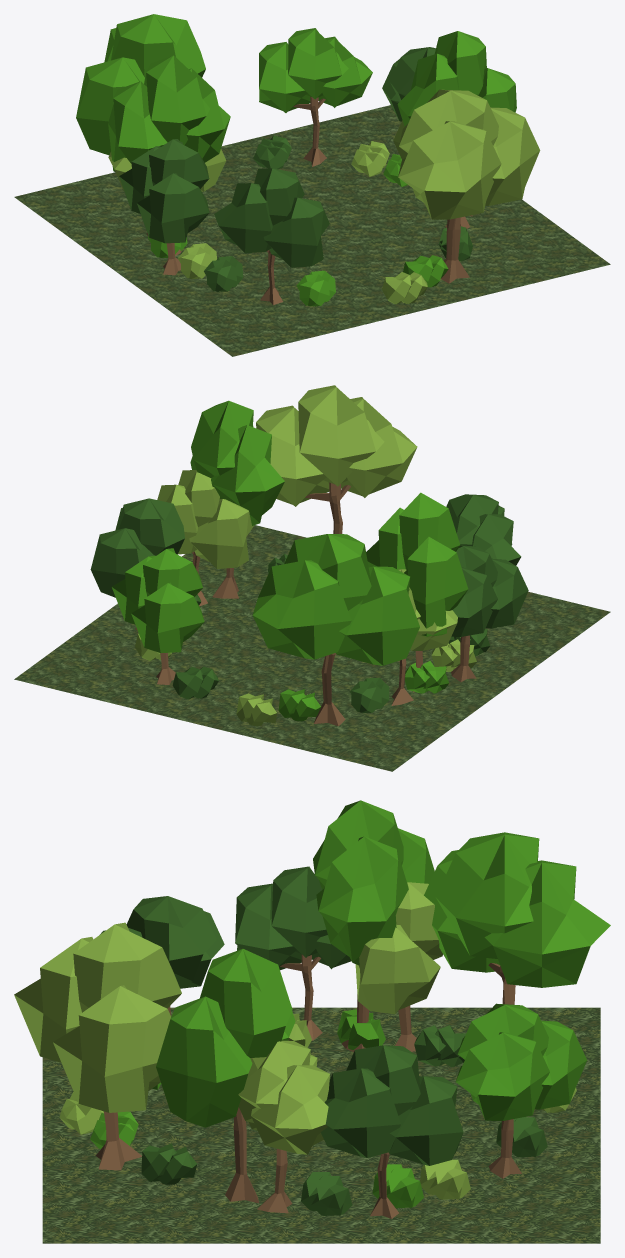
File: Stick-Forest.glb
3 renders of one model, top to bottom at view 1: azimuth 30°, elevation 25°; view 2: azimuth 150°, elevation 25°; view 3: azimuth 270°, elevation 25°, orthographic. The views are drawn at different scales.
Visible parts, largest first — view 1: Plane, Tree-Leaves.005, Tree-Leaves.003, Tree-Leaves.006, Tree-Leaves, Tree-Leaves.001, Tree-Leaves.007, Tree-Leaves.008, Tree-Leaves.002, Bushes.013, Bushes.009, Bushes.010 (+9 smaller); view 2: Plane, Tree-Leaves, Tree-Leaves.005, Tree-Leaves.003, Tree-Leaves.008, Tree-Leaves.001, Tree-Leaves.004, Tree-Leaves.002, Tree-Leaves.007, Tree-Leaves.006, Bushes.002, Tree-Leaves.009 (+8 smaller); view 3: Plane, Tree-Leaves.005, Tree-Leaves, Tree-Leaves.008, Tree-Leaves.002, Tree-Leaves.003, Tree-Leaves.001, Tree-Leaves.004, Tree-Leaves.007, Tree-Leaves.009, Tree-Leaves.006, Bushes.007 (+14 smaller).
Boxes of the visible parts, x1,y1,x2,y2 form: Plane: [14, 105, 610, 356]; Tree-Leaves.005: [398, 89, 540, 219]; Tree-Leaves.003: [108, 55, 230, 171]; Tree-Leaves.006: [214, 168, 329, 267]; Tree-Leaves: [76, 14, 205, 155]; Tree-Leaves.001: [259, 28, 372, 112]; Tree-Leaves.007: [119, 139, 209, 243]; Tree-Leaves.008: [397, 31, 516, 126]; Tree-Leaves.002: [382, 47, 435, 121]; Bushes.013: [382, 272, 427, 304]; Bushes.009: [296, 270, 335, 306]; Bushes.010: [204, 256, 243, 291]; Plane: [14, 525, 610, 771]; Tree-Leaves: [252, 534, 419, 665]; Tree-Leaves.005: [256, 385, 417, 506]; Tree-Leaves.003: [366, 492, 468, 636]; Tree-Leaves.008: [190, 400, 284, 525]; Tree-Leaves.001: [112, 548, 204, 652]; Tree-Leaves.004: [157, 470, 253, 568]; Tree-Leaves.002: [90, 498, 184, 597]; Tree-Leaves.007: [451, 545, 528, 636]; Tree-Leaves.006: [446, 494, 521, 565]; Bushes.002: [172, 666, 218, 699]; Tree-Leaves.009: [398, 569, 457, 650]; Plane: [42, 1007, 600, 1243]; Tree-Leaves.005: [14, 922, 181, 1112]; Tree-Leaves: [424, 832, 610, 987]; Tree-Leaves.008: [156, 948, 295, 1127]; Tree-Leaves.002: [321, 1045, 463, 1165]; Tree-Leaves.003: [313, 800, 434, 965]; Tree-Leaves.001: [455, 1003, 587, 1120]; Tree-Leaves.004: [238, 1040, 329, 1154]; Tree-Leaves.007: [235, 866, 351, 970]; Tree-Leaves.009: [355, 882, 442, 1014]; Tree-Leaves.006: [100, 896, 224, 988]; Bushes.007: [141, 1143, 197, 1184].
Size of the model in its own units: 18.95 by 9.55 by 20.27.
5 materials, 1 textured.
